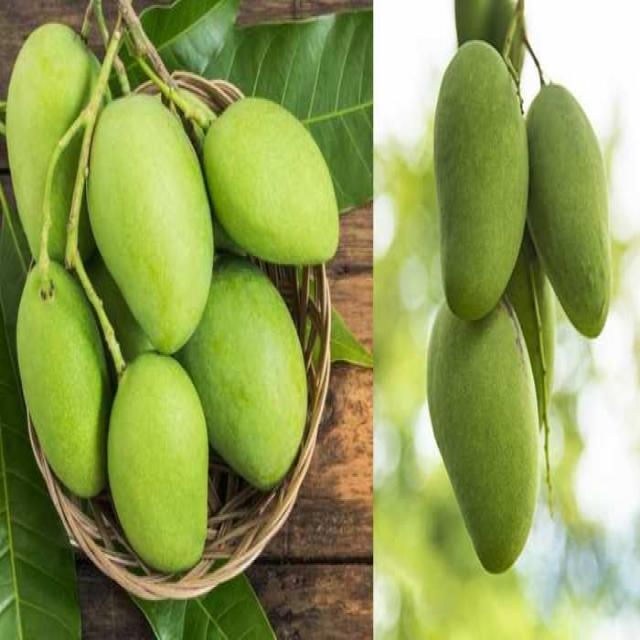raw-image: (428, 311, 540, 581), (432, 47, 523, 313), (535, 81, 611, 345)
